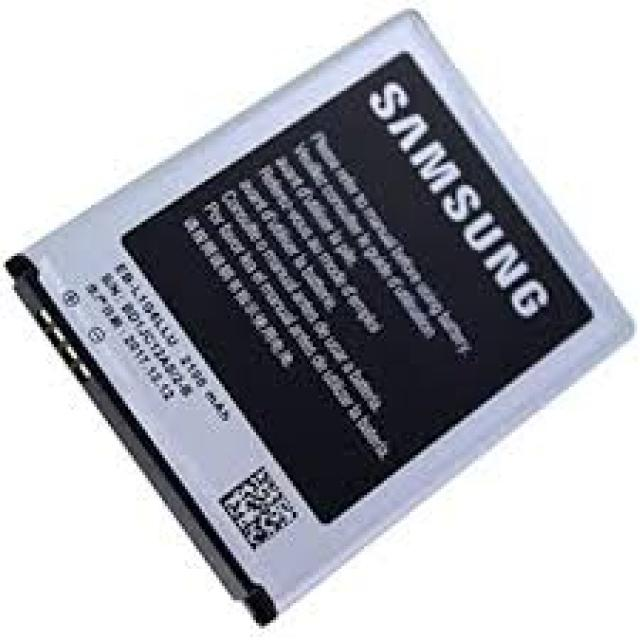non-organic waste: (4, 9, 632, 631)
